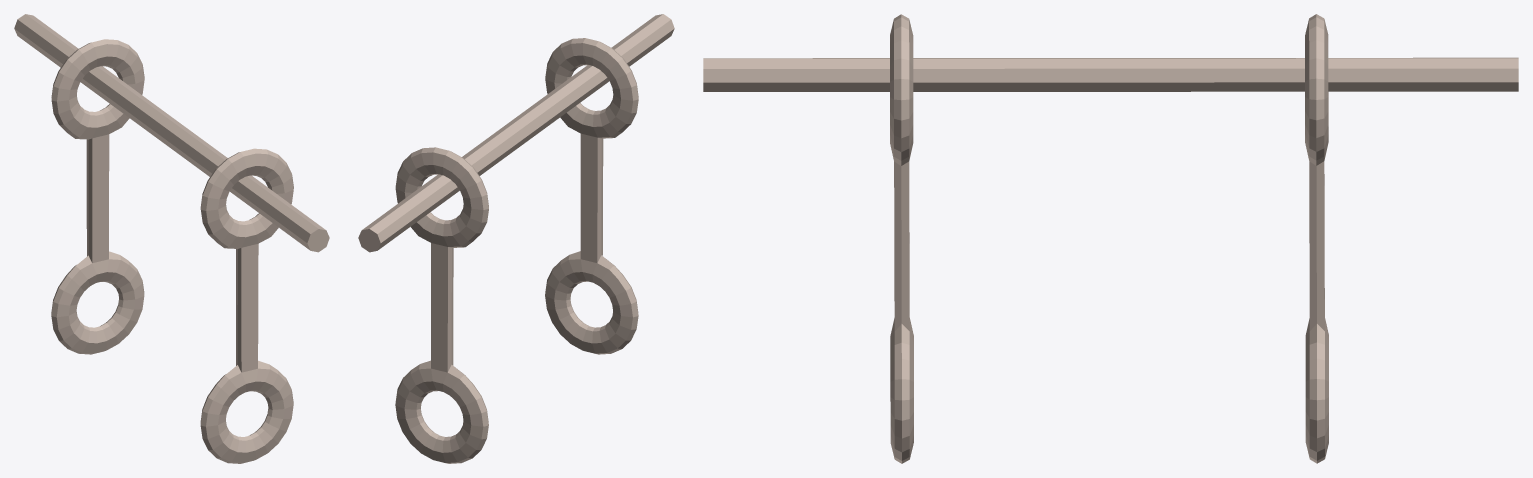
Rendered from steel.fbx.
3 views of the same model, side by side, from view 1: azimuth 30°, elevation 25°; view 2: azimuth 150°, elevation 25°; view 3: azimuth 270°, elevation 25° (orthographic). The views are drawn at different scales.
Parts seen in each view (by area): view 1: Torus; view 2: Torus; view 3: Torus.
Boxes of the visible parts, x1,y1,x2,y2 form: Torus: (14, 14, 329, 463); Torus: (358, 14, 674, 463); Torus: (703, 14, 1518, 463).
Size of the model in its own units: 135 by 433 by 737.
